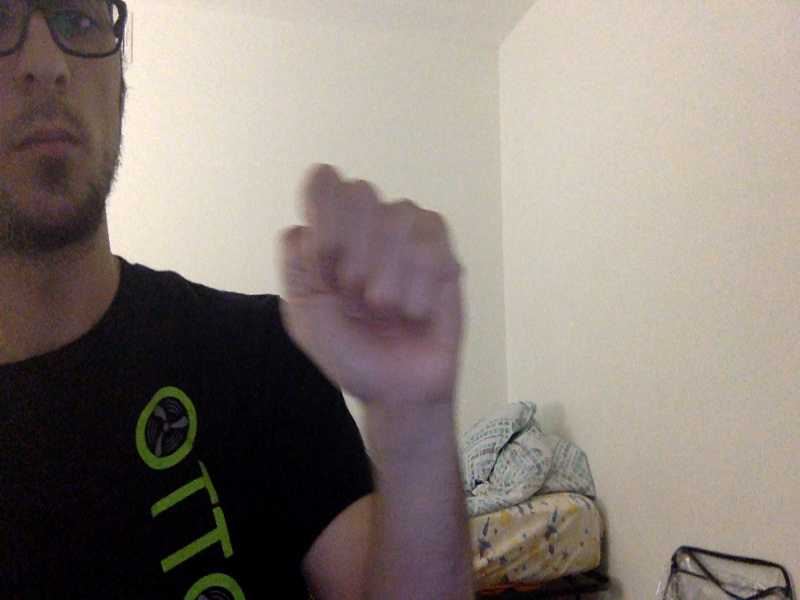0-hand: (278, 164, 466, 411)
